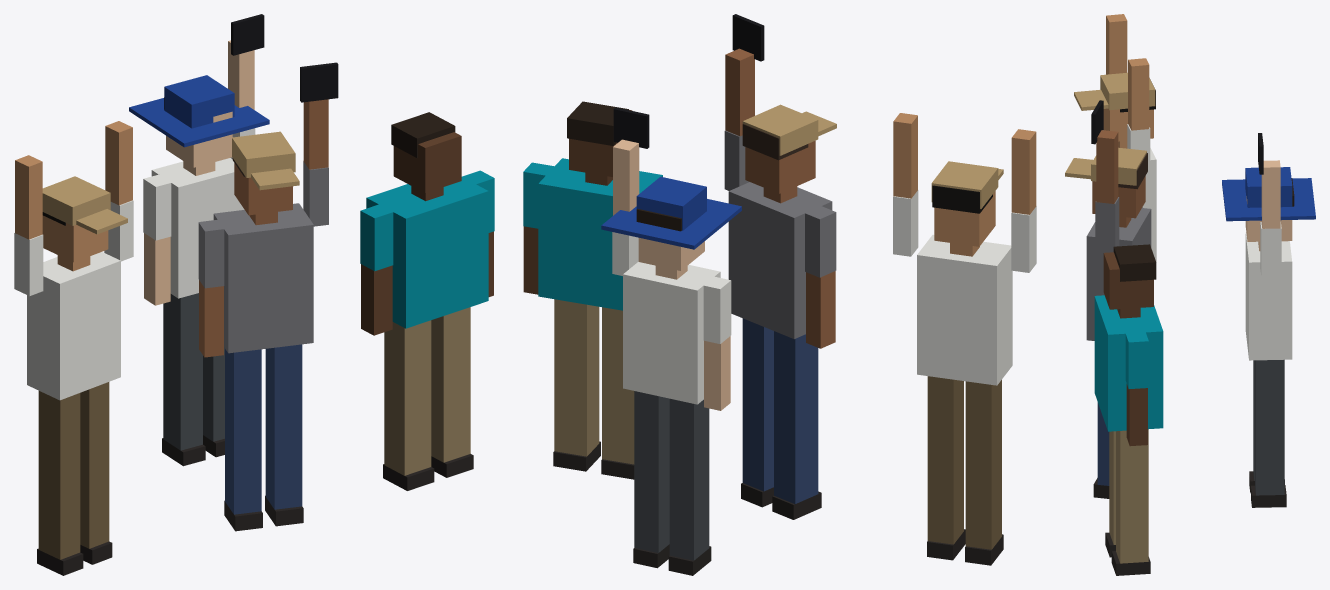
The model's file is crowd_c.dae.
3 views of the same model, side by side, from view 1: azimuth 30°, elevation 25°; view 2: azimuth 150°, elevation 25°; view 3: azimuth 270°, elevation 25° (orthographic). The views are drawn at different scales.
Parts seen in each view (by area): view 1: marker; view 2: marker; view 3: marker.
Part boxes in pixels (x1,y1,x2,y2): marker: [14, 14, 494, 575]; marker: [523, 14, 1036, 575]; marker: [1065, 14, 1315, 575].
Size of the model in its own units: 2.41 by 1.23 by 2.15.
